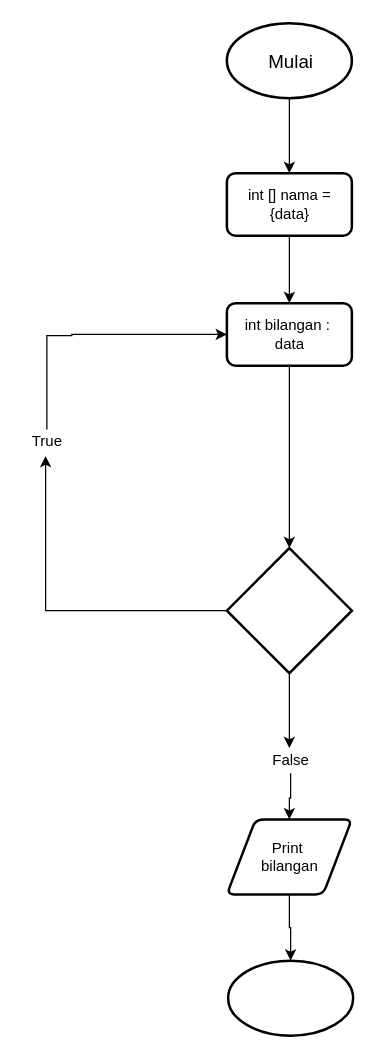
This 375x1058 diagram has some shape labels left out. The box of each missing label's shape, as (x1, y1, x2, y2) in pixels:
bilangan % 3 == 0: (225, 546, 352, 674)
Selesai: (226, 959, 354, 1036)
